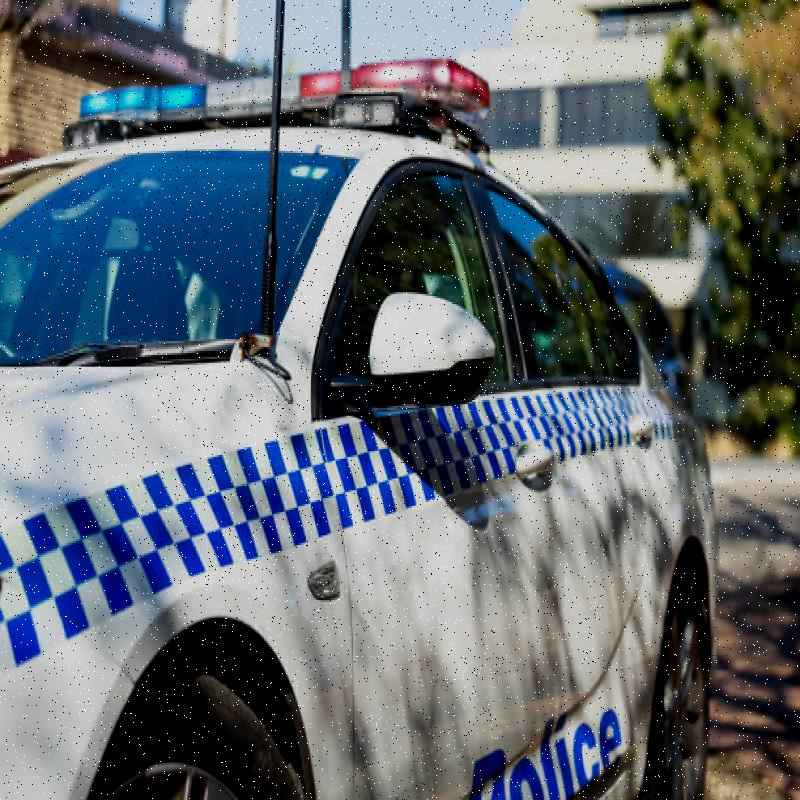AmbulanceSiren: (75, 52, 476, 143)
